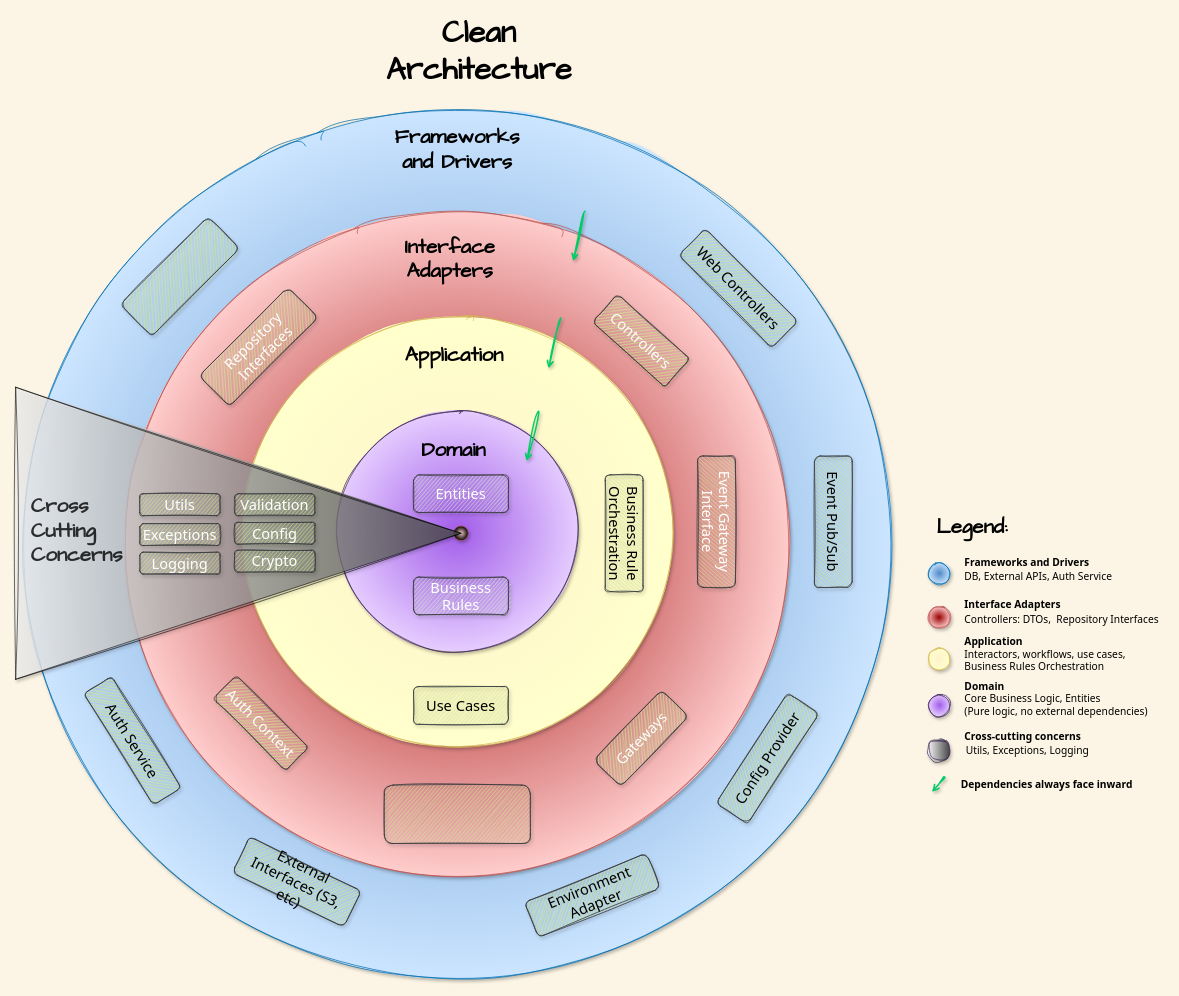
The diagram is 1179 pixels wide and 996 high, and some of its shapes have lost their labels. Here are the shapes that lost their labels. From the top down, the centre of each, then its label:
the point at 180,277: Repository Implementations
the point at 458,815: DTOs Request/Response Models
